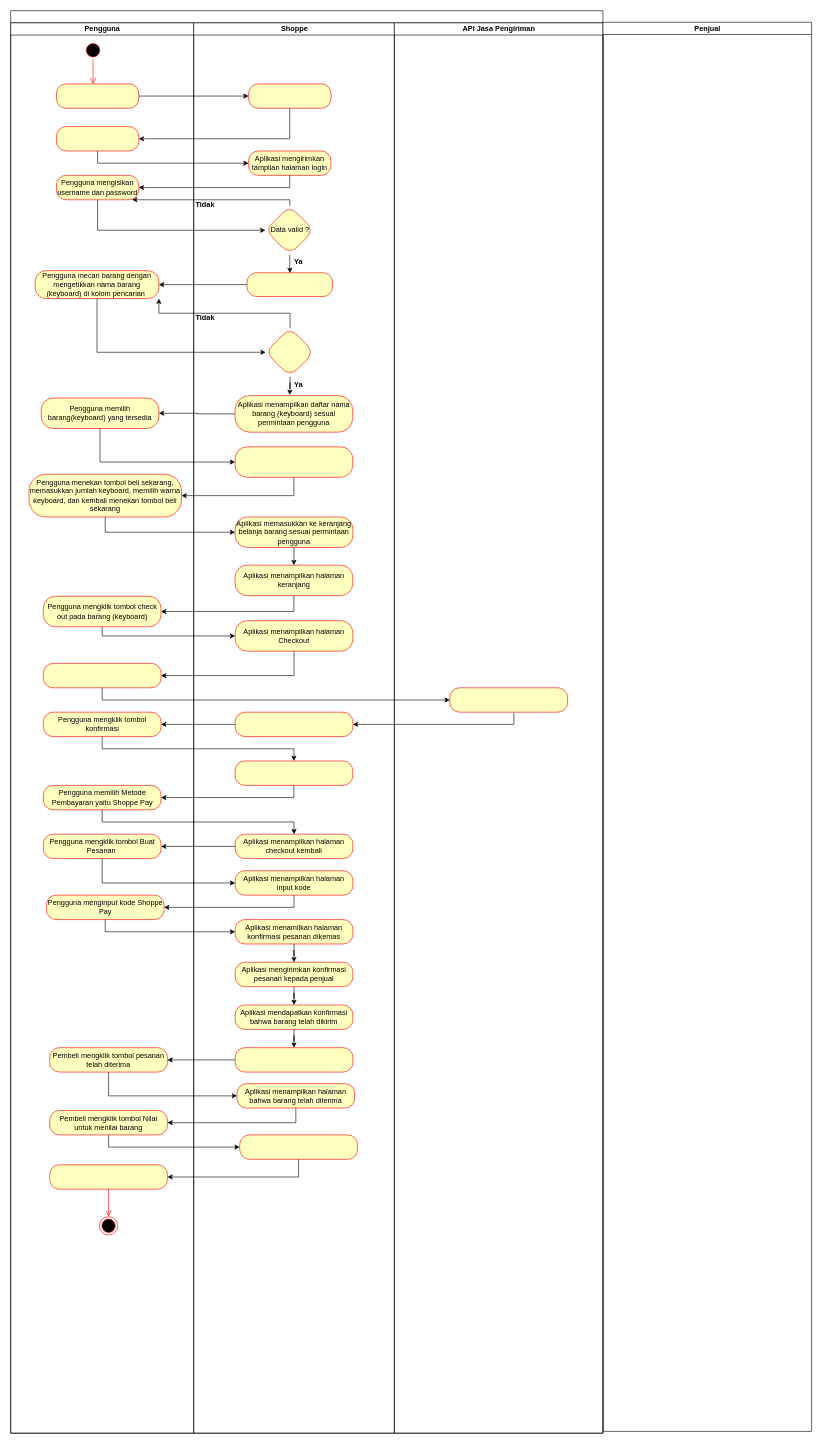
This 822x1444 diagram has some shape labels left out. The box of each missing label's shape, as (x1, y1, x2, y2) in pixels:
Aplikasi mempilkan kembali Halaman utama: (246, 272, 332, 297)
Aplikasi menampilkan form untuk penilaian barang: (239, 1134, 357, 1159)
Aplikasi menampilkan halaman barang dikirim: (235, 1047, 353, 1072)
Aplikasi menampilkan halaman barang sesuai permintaan pengguna: (234, 446, 353, 477)
Aplikasi menampilkan kembali halaman checkout: (234, 760, 353, 785)
Aplikasi menampilkan perhitungan jasa pengiriman barang dari JNE: (235, 712, 353, 737)
Aplikasi mengirimkan tampilah halaman utama: (248, 83, 331, 108)
Barang tersedia ?: (265, 327, 314, 377)
JNE mengirimkan perhitungan jasa pengiriman: (449, 687, 568, 712)
Pembeli mengisi form penilaian kemudian menekan tombol Nilai: (49, 1164, 167, 1189)
Pengguna membuka Aplikasi: (56, 83, 139, 108)
Pengguna memilih jasa pengiriman pada opsi pengiriman JNE: (43, 663, 161, 688)
Pengguna mengklik tombol login: (56, 126, 139, 151)
